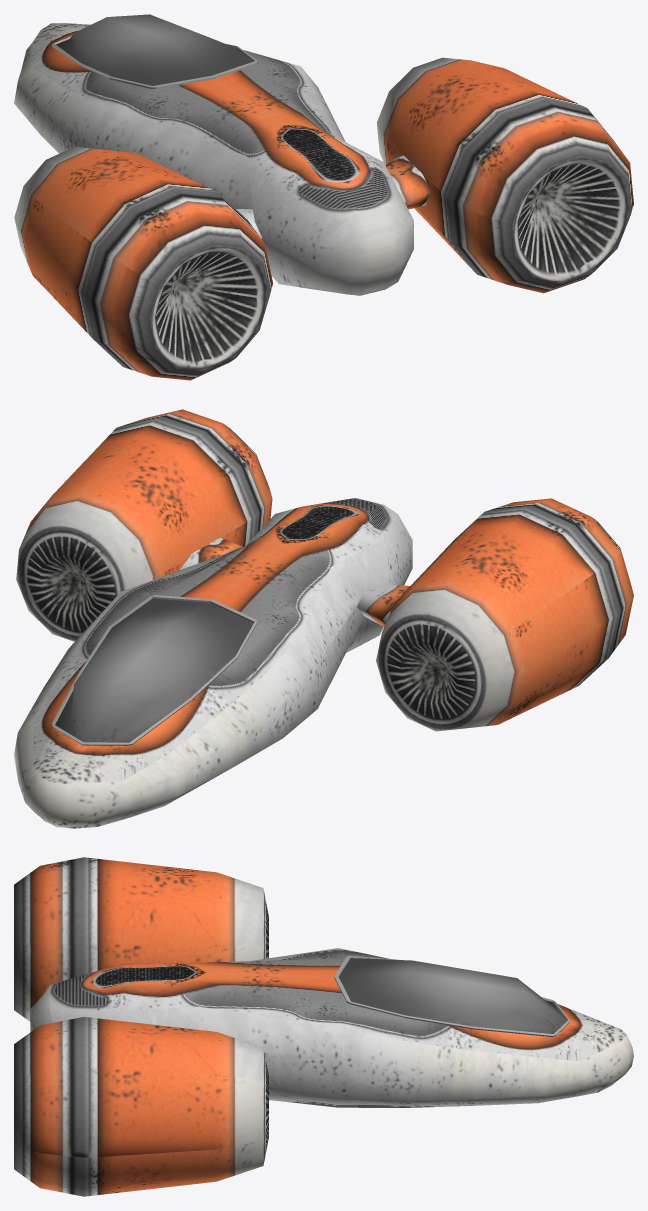
The model's file is ship.fbx.
3 renders of one model, top to bottom at view 1: azimuth 30°, elevation 25°; view 2: azimuth 150°, elevation 25°; view 3: azimuth 270°, elevation 25°, orthographic. The views are drawn at different scales.
Parts seen in each view (by area): view 1: polySurface2; view 2: polySurface2; view 3: polySurface2.
Boxes of the visible parts, x1,y1,x2,y2 form: polySurface2: [14, 14, 633, 380]; polySurface2: [14, 409, 633, 828]; polySurface2: [14, 857, 633, 1196].
Size of the model in its own units: 7.9 by 2.56 by 8.81.
1 material, 1 textured.
